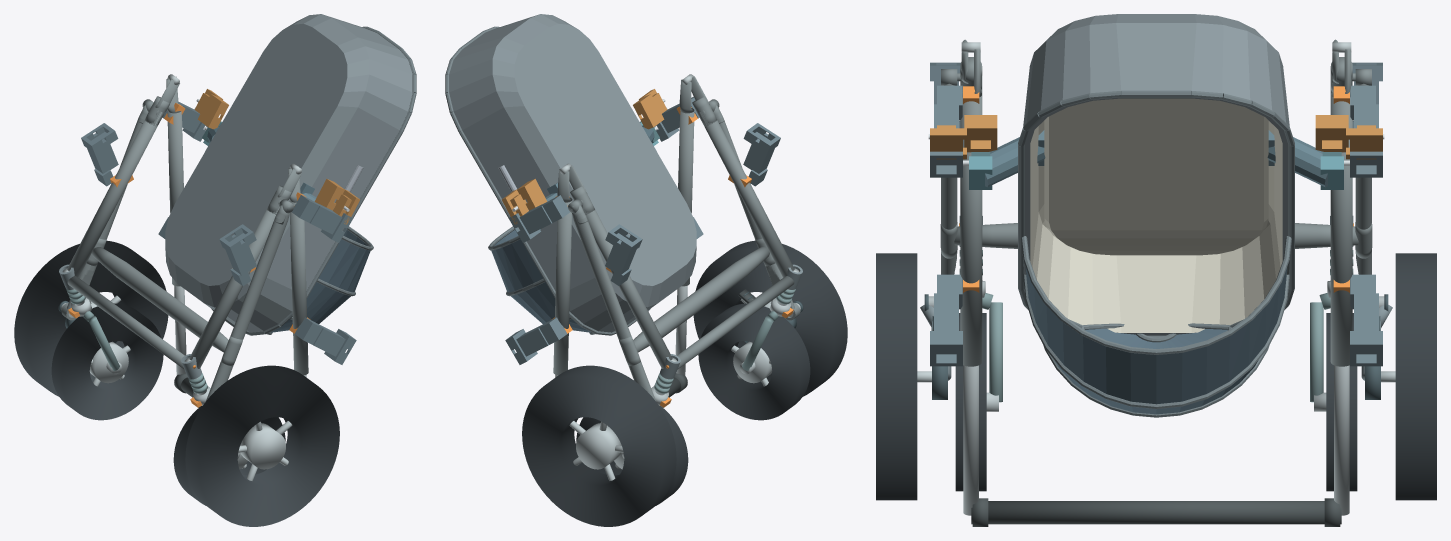
File: S06_w650_state3_wheel_L.glb
3 renders of one model, left to right at view 1: azimuth 30°, elevation 25°; view 2: azimuth 150°, elevation 25°; view 3: azimuth 270°, elevation 25°, orthographic. The views are drawn at different scales.
Visible parts, largest first — view 1: S06_Cabin, RL_tire.008, FR_tire.008, RR_tire.008, V46_rearbar.009, main_lower_1.009, V46_rear_leg_-1.009, main_upper_-1.009, main_lower_-1.009, front_fixed_round_tube.008, RL_sealed_hub.008, Universal_Cabin_Receiver_H_-1 (+12 smaller); view 2: S06_Cabin, RR_tire.008, FL_tire.008, RL_tire.008, V46_rearbar.009, main_lower_-1.009, V46_rear_leg_1.009, main_upper_1.009, main_lower_1.009, front_fixed_round_tube.008, RR_sealed_hub.008, Universal_Cabin_Receiver_H_1 (+12 smaller); view 3: S06_Cabin, RL_tire.008, RR_tire.008, round_handle.008, main_upper_1.009, main_upper_-1.009, S06_Cabin_Mount_M, Universal_Cabin_Receiver_H_1, Universal_Cabin_Receiver_H_-1, FL_tire.008, FR_tire.008, handle_slider_1.008 (+10 smaller).
Boxes of the visible parts, x1,y1,x2,y2 form: S06_Cabin: [165, 14, 416, 335]; RL_tire.008: [185, 365, 339, 526]; FR_tire.008: [51, 303, 163, 420]; RR_tire.008: [14, 240, 168, 396]; V46_rearbar.009: [92, 247, 228, 352]; main_lower_1.009: [67, 112, 162, 277]; V46_rear_leg_-1.009: [206, 212, 289, 400]; main_upper_-1.009: [289, 200, 308, 375]; main_lower_-1.009: [189, 207, 279, 368]; front_fixed_round_tube.008: [67, 276, 184, 369]; RL_sealed_hub.008: [240, 423, 285, 469]; Universal_Cabin_Receiver_H_-1: [294, 317, 356, 364]; S06_Cabin: [445, 14, 696, 335]; RR_tire.008: [522, 365, 676, 526]; FL_tire.008: [698, 303, 810, 420]; RL_tire.008: [693, 240, 847, 396]; V46_rearbar.009: [633, 247, 769, 352]; main_lower_-1.009: [699, 112, 794, 277]; V46_rear_leg_1.009: [572, 212, 655, 400]; main_upper_1.009: [553, 198, 572, 375]; main_lower_1.009: [582, 207, 672, 368]; front_fixed_round_tube.008: [677, 276, 794, 369]; RR_sealed_hub.008: [576, 423, 621, 469]; Universal_Cabin_Receiver_H_1: [505, 317, 567, 364]; S06_Cabin: [1018, 14, 1294, 417]; RL_tire.008: [876, 253, 917, 500]; RR_tire.008: [1395, 253, 1436, 500]; round_handle.008: [971, 501, 1341, 524]; main_upper_1.009: [1330, 95, 1352, 366]; main_upper_-1.009: [960, 95, 982, 366]; S06_Cabin_Mount_M: [963, 130, 1349, 189]; Universal_Cabin_Receiver_H_1: [1350, 274, 1382, 366]; Universal_Cabin_Receiver_H_-1: [930, 274, 962, 366]; FL_tire.008: [955, 313, 986, 491]; FR_tire.008: [1326, 313, 1357, 491]; handle_slider_1.008: [1334, 365, 1349, 515].
Bounding box in the file's own units: 0.7282 × 0.9495 × 0.8171.
